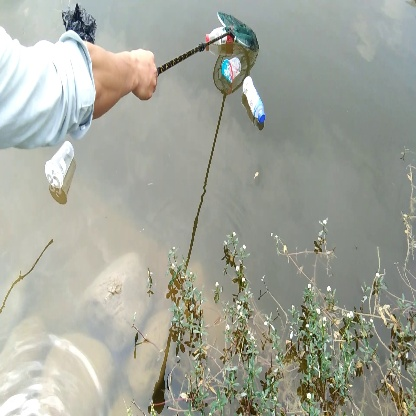bottle: (42, 140, 78, 189), (240, 72, 270, 125)
